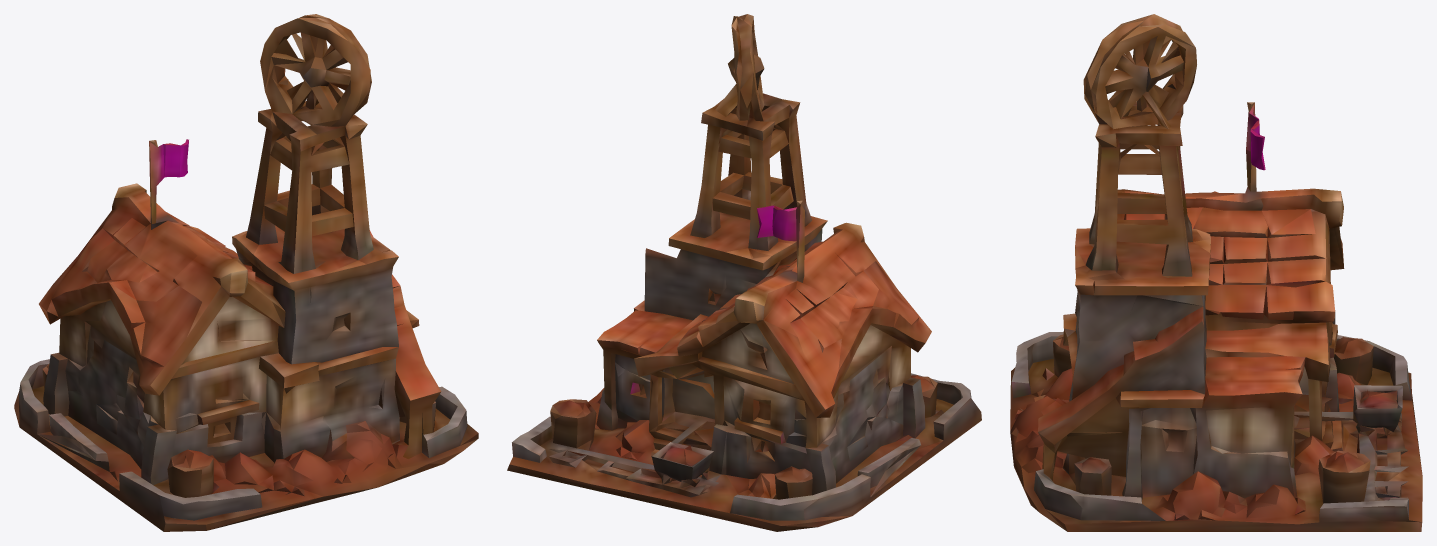
Rendered from clay_mine3.lod2.glb.
3 renders of one model, left to right at view 1: azimuth 30°, elevation 25°; view 2: azimuth 150°, elevation 25°; view 3: azimuth 270°, elevation 25°, orthographic. The views are drawn at different scales.
Visible parts, largest first — view 1: clay_mine3.lod2_uv; view 2: clay_mine3.lod2_uv; view 3: clay_mine3.lod2_uv.
Part boxes in pixels (<box>): clay_mine3.lod2_uv: <box>14,14,478,531</box>; clay_mine3.lod2_uv: <box>507,14,981,531</box>; clay_mine3.lod2_uv: <box>1010,14,1422,531</box>.
Size of the model in its own units: 1.57 by 1.89 by 1.59.
1 material, 1 textured.
